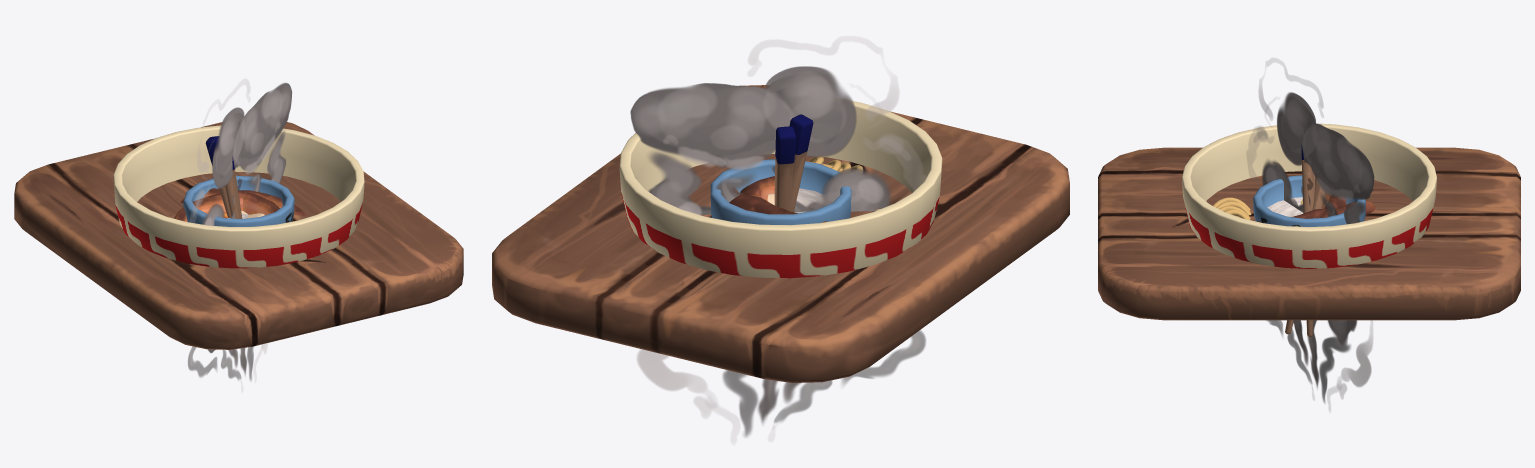
3 renders of one model, left to right at view 1: azimuth 30°, elevation 25°; view 2: azimuth 150°, elevation 25°; view 3: azimuth 270°, elevation 25°, orthographic. The views are drawn at different scales.
Visible parts, largest first — view 1: Table_30, Bowl_1, Plane.002_33, Cylinder_32, Beef.001_10, Beef_4, Chopstick.001_14; view 2: Table_30, Plane.002_33, Bowl_1, Cylinder_32, Chopstick_6, Chopstick.001_14, Beef.001_10, Beef_4; view 3: Table_30, Bowl_1, Plane.002_33, Cylinder_32, Chopstick.001_14, Noodles_2, Beef_4.
Part boxes in pixels (left/top/right/bottom): Table_30: left=14, top=122, right=463, bottom=349; Bowl_1: left=113, top=125, right=364, bottom=268; Plane.002_33: left=188, top=79, right=291, bottom=391; Cylinder_32: left=183, top=175, right=294, bottom=226; Beef.001_10: left=174, top=190, right=306, bottom=221; Beef_4: left=180, top=188, right=279, bottom=215; Chopstick.001_14: left=215, top=144, right=242, bottom=218; Table_30: left=492, top=85, right=1069, bottom=382; Plane.002_33: left=630, top=36, right=925, bottom=443; Bowl_1: left=619, top=99, right=942, bottom=278; Cylinder_32: left=710, top=159, right=851, bottom=224; Chopstick_6: left=774, top=126, right=796, bottom=210; Chopstick.001_14: left=789, top=114, right=813, bottom=212; Beef.001_10: left=729, top=188, right=827, bottom=222; Beef_4: left=740, top=176, right=774, bottom=211; Table_30: left=1098, top=147, right=1520, bottom=320; Bowl_1: left=1182, top=123, right=1436, bottom=268; Plane.002_33: left=1246, top=58, right=1374, bottom=411; Cylinder_32: left=1253, top=175, right=1365, bottom=226; Chopstick.001_14: left=1301, top=145, right=1315, bottom=336; Noodles_2: left=1213, top=197, right=1302, bottom=220; Beef_4: left=1257, top=200, right=1375, bottom=222.
Bounding box in the file's own units: 183505 × 203975 × 229369.
Materials: 15 (14 with a texture image).
